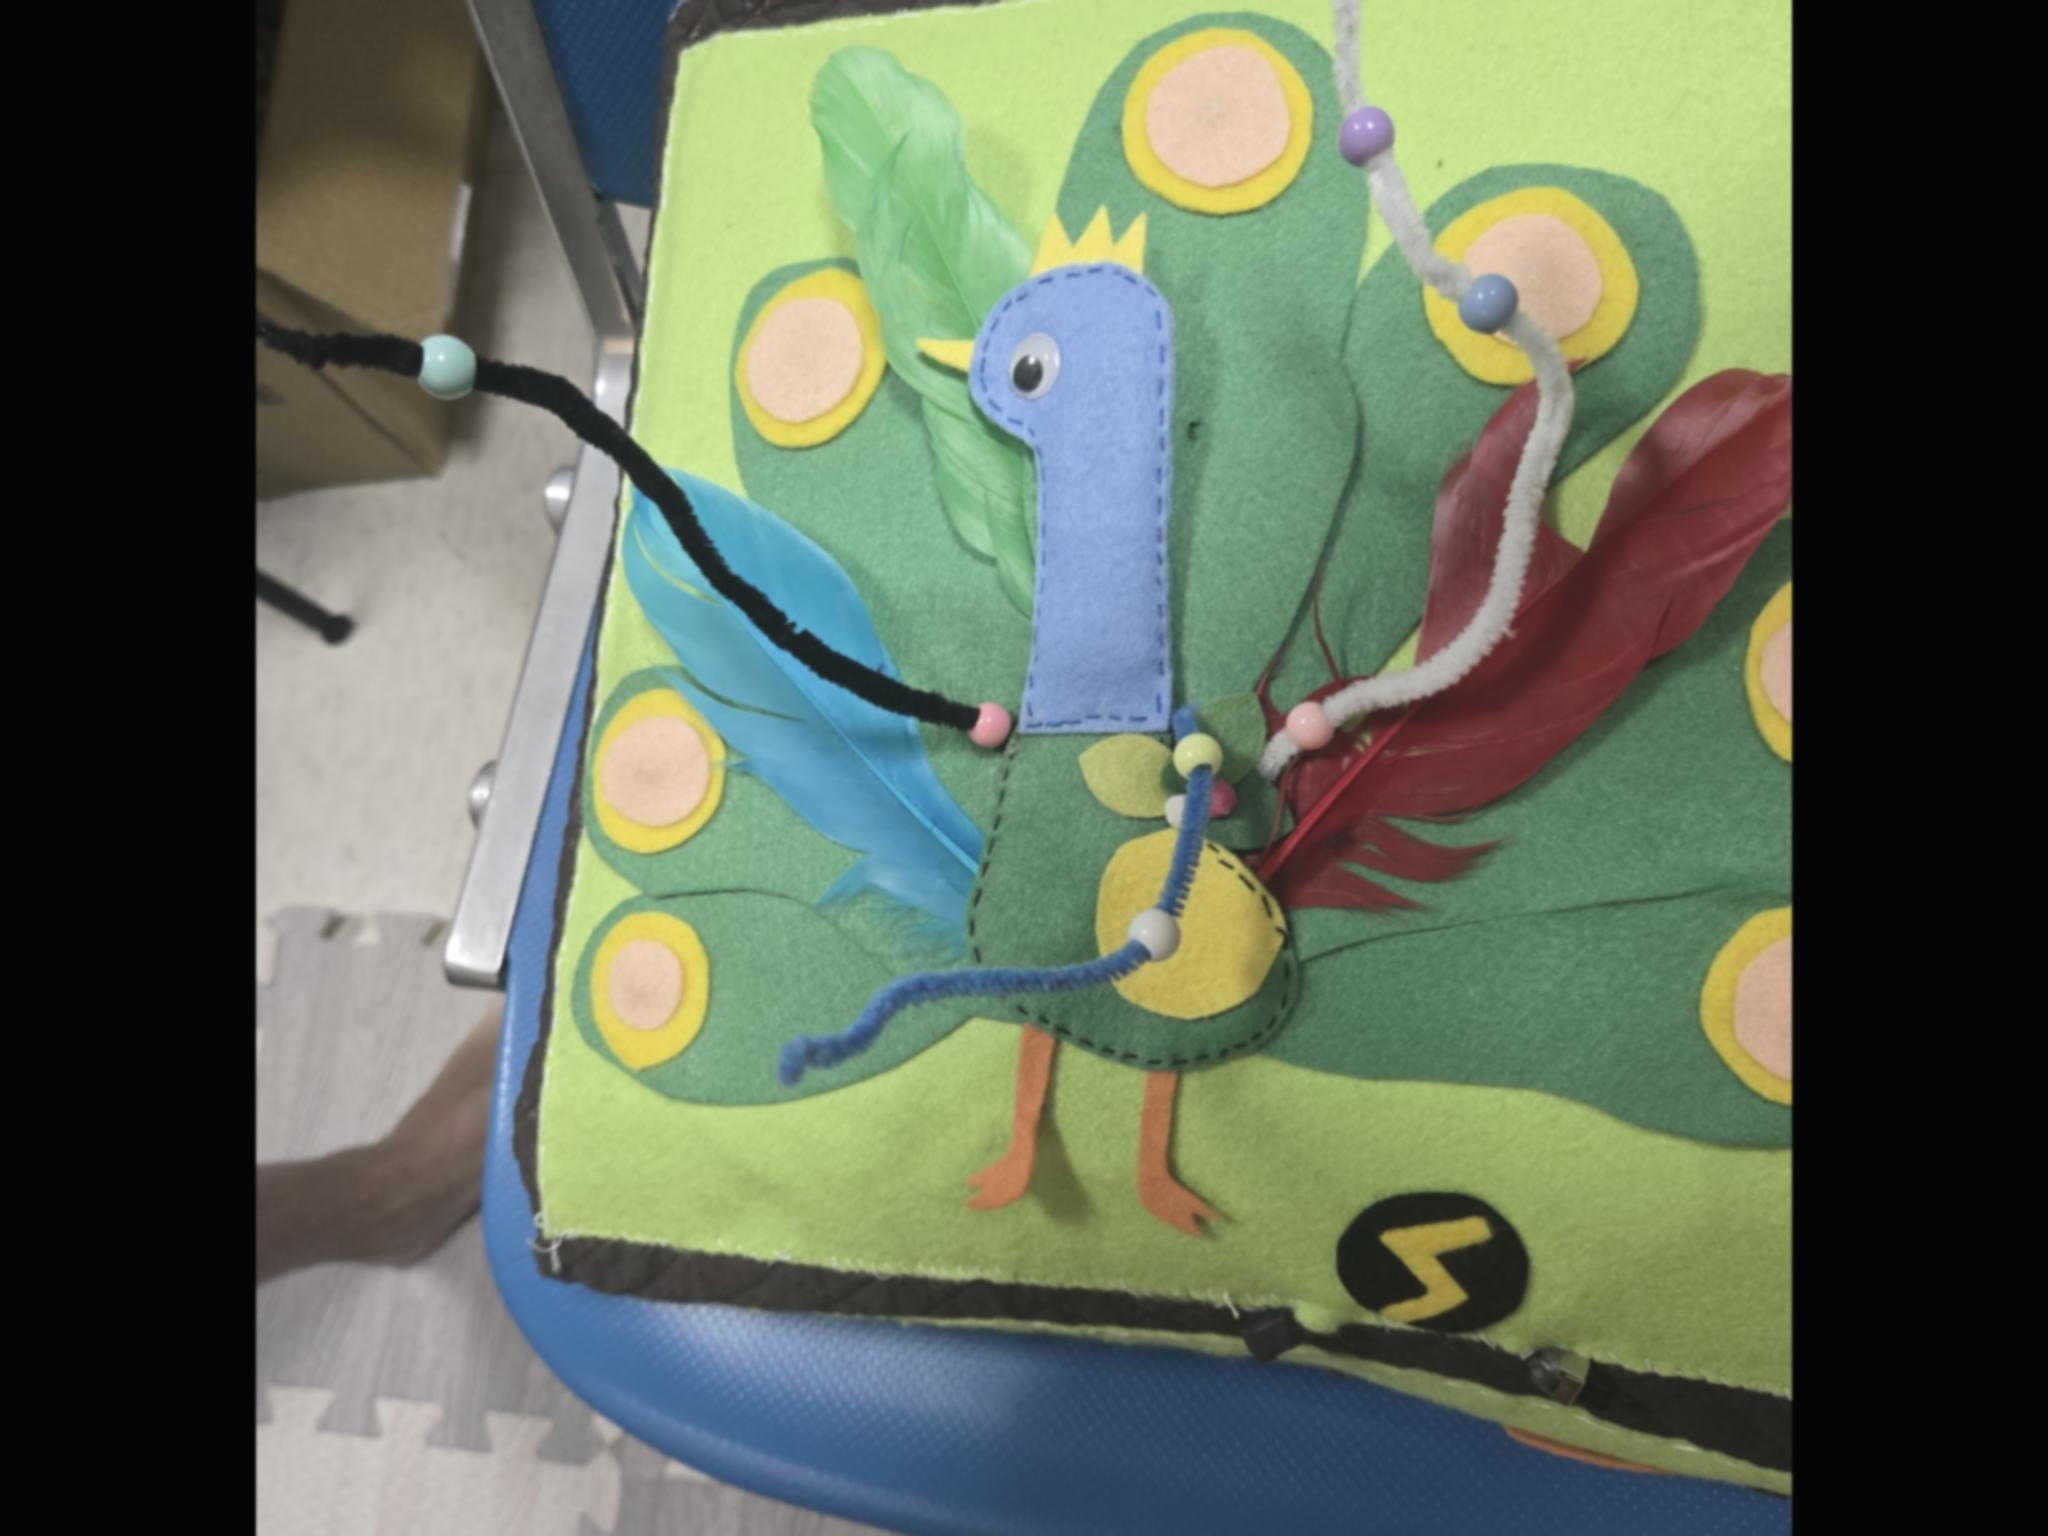bead: (1440, 266, 1537, 344), (397, 329, 487, 400), (953, 686, 1034, 765), (1337, 98, 1408, 181), (1279, 686, 1347, 755), (1119, 902, 1195, 963), (1163, 720, 1229, 789)
